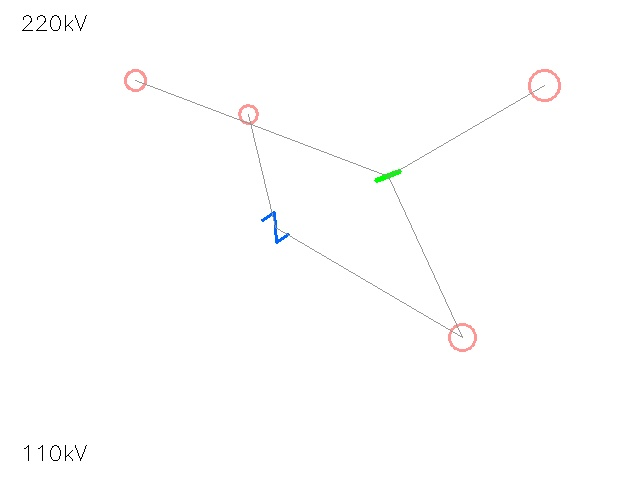busbar: (373, 161, 403, 191)
circuit_breaker: (260, 212, 290, 242)
load_break_switch: (115, 60, 155, 100), (229, 95, 267, 133)
voltage_transformer: (514, 55, 574, 115), (436, 311, 488, 363)
